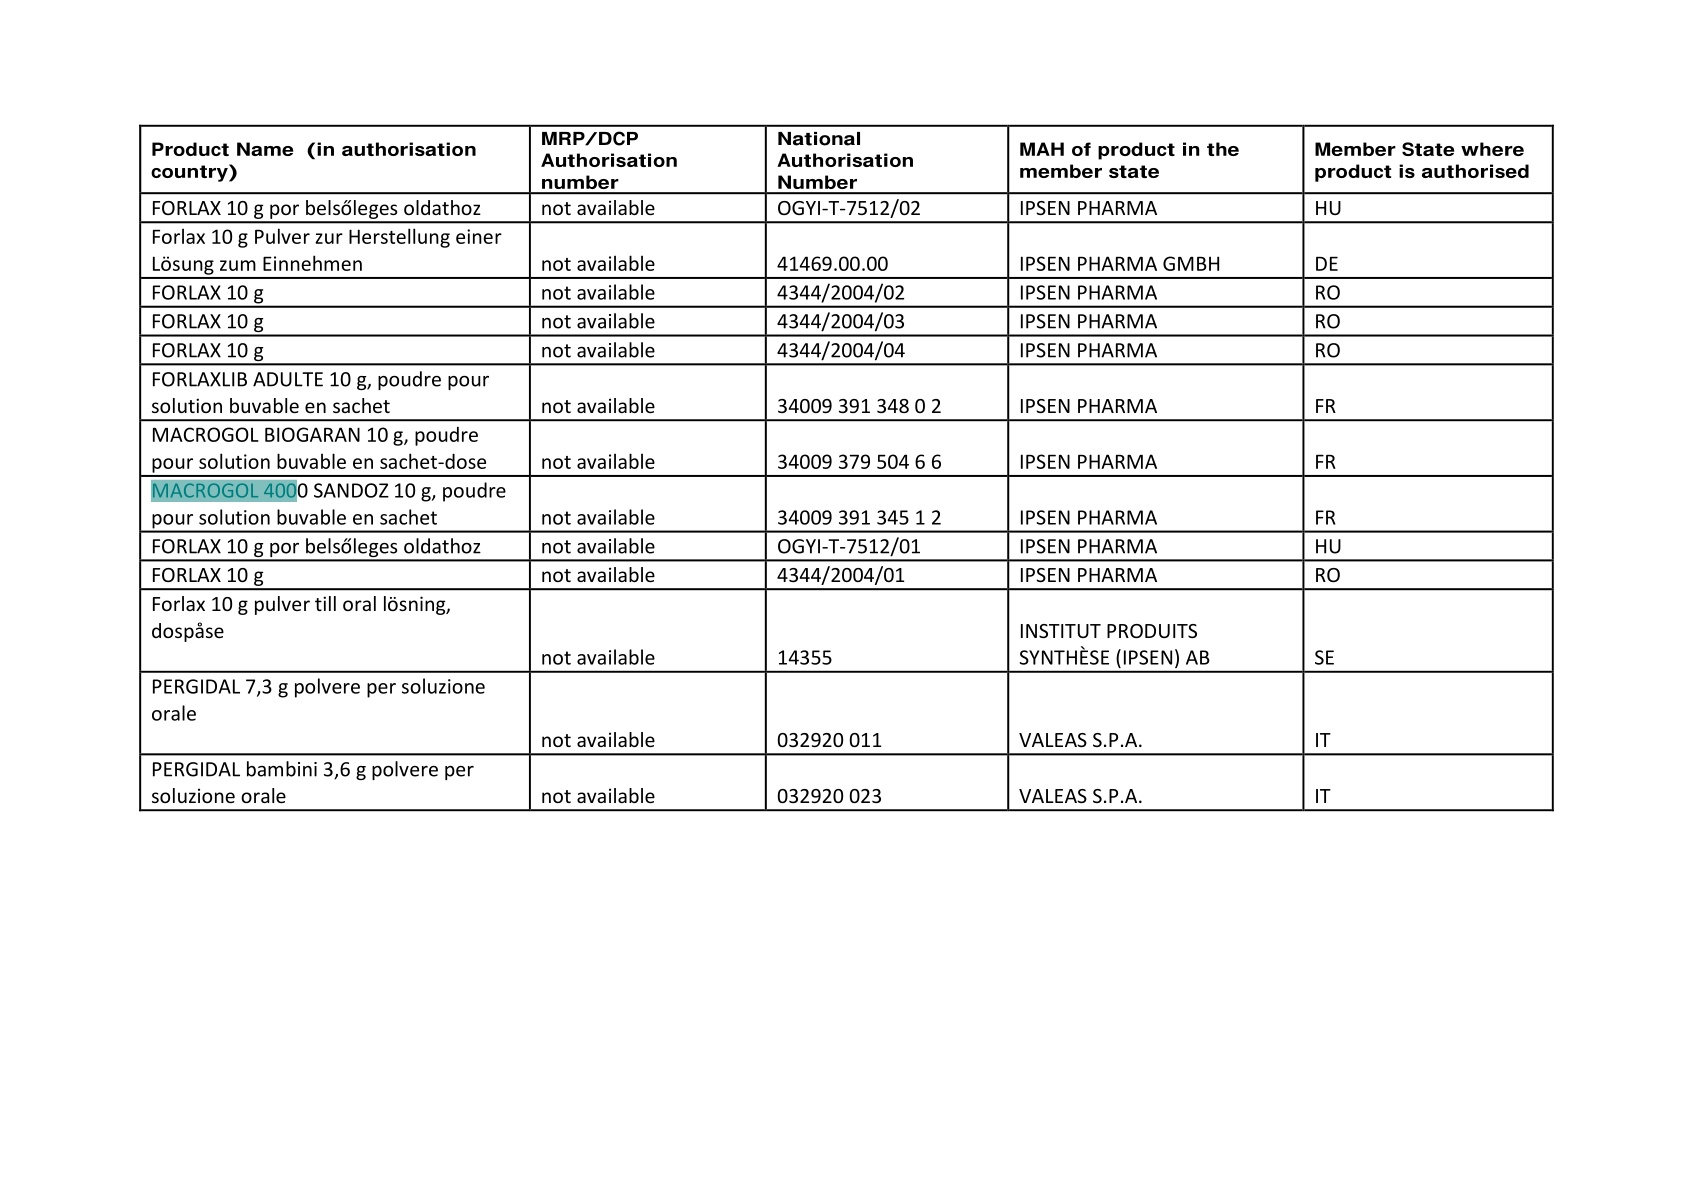full_lined: (138, 124, 1555, 812)
